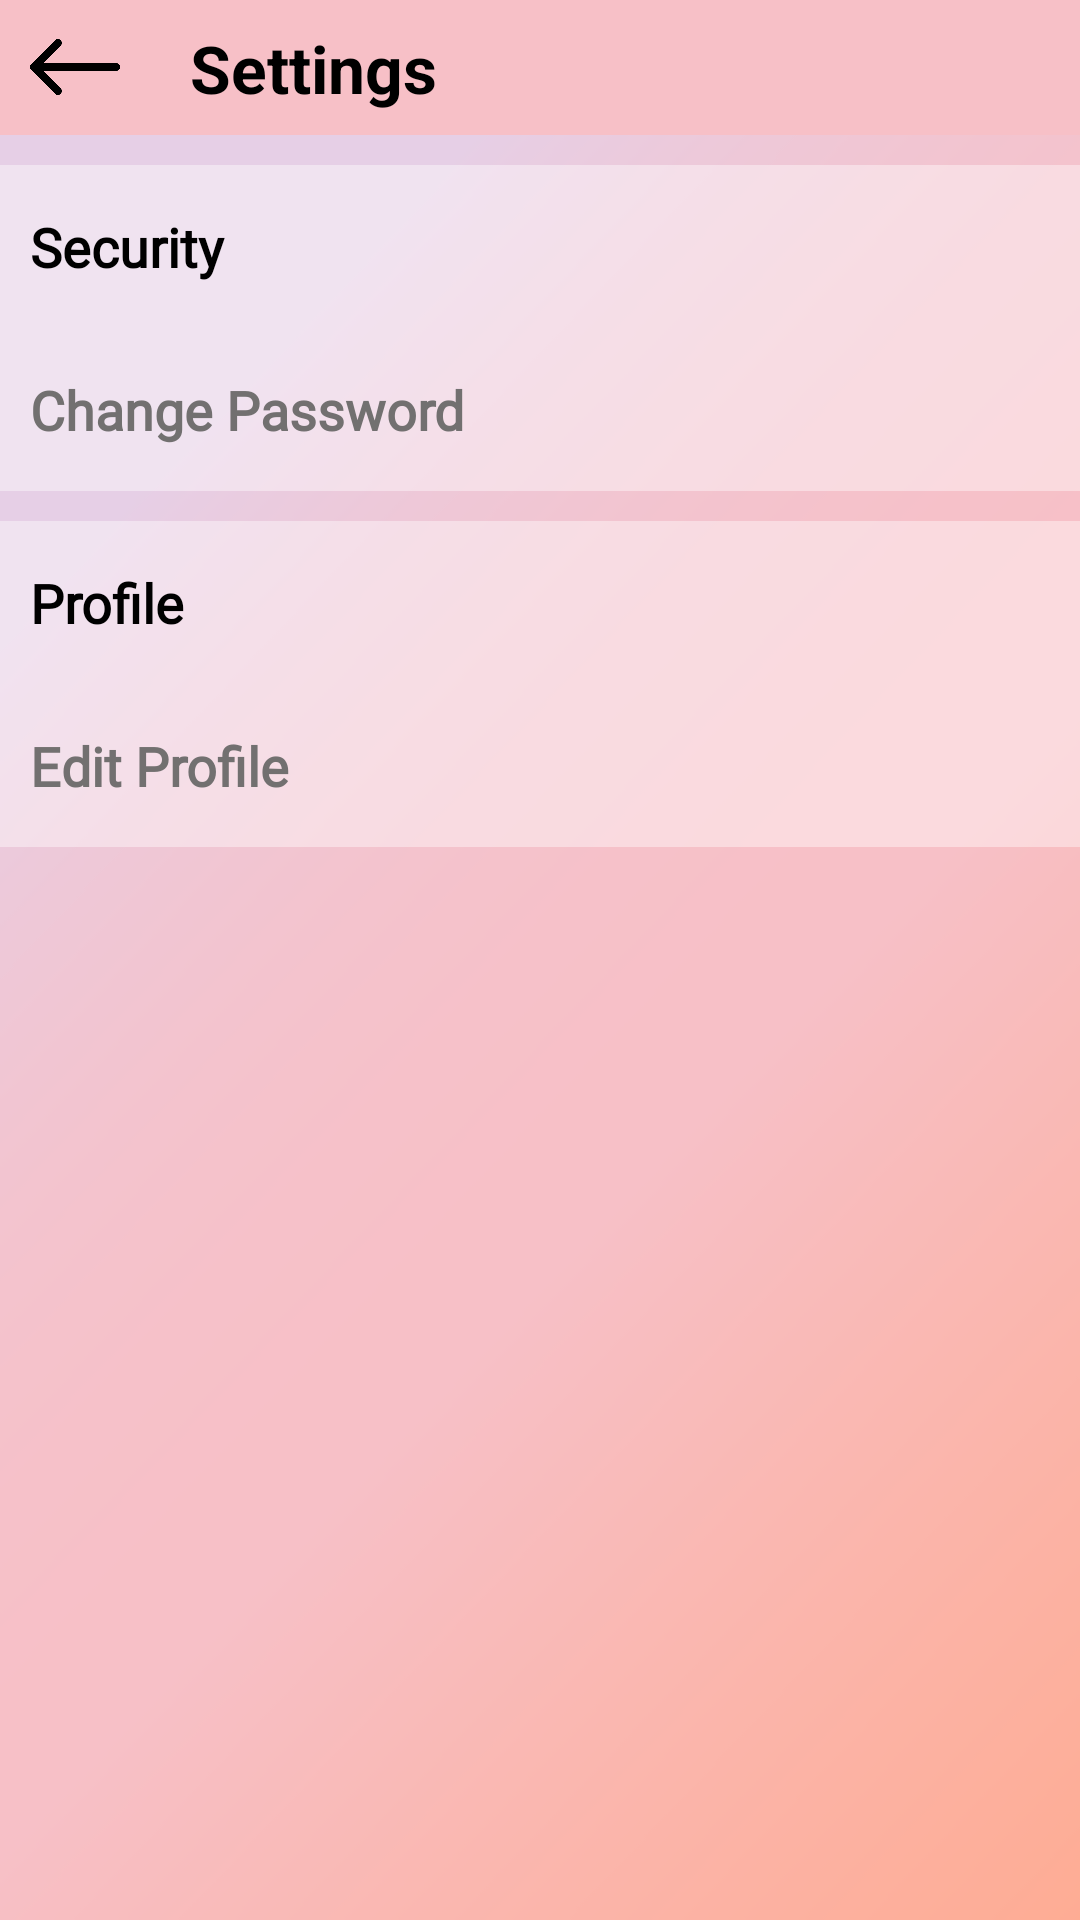

Locate icon controls on the screen. Image size 1080w x 1920h, boxes as {"left": x1, "top": y1, "right": x2, "bottom": y2}.
back: {"left": 30, "top": 39, "right": 120, "bottom": 95}
